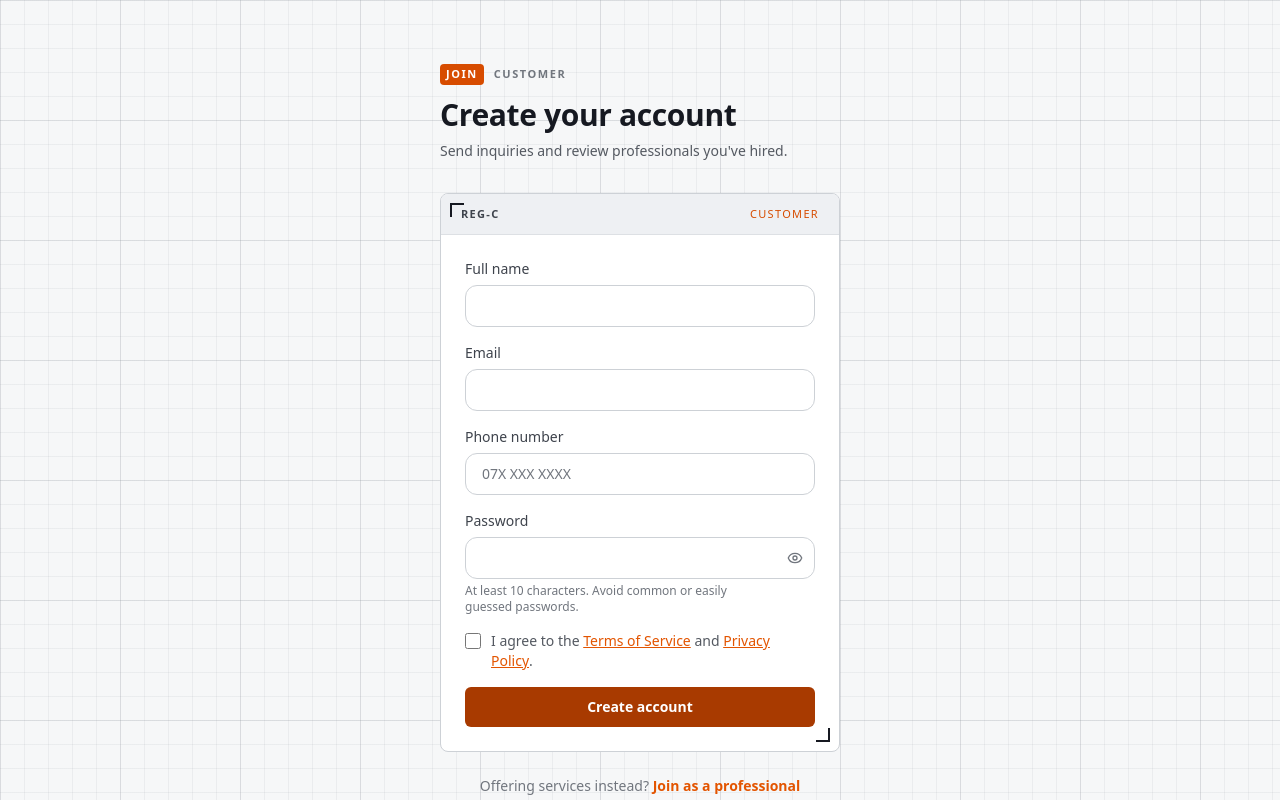
CustomerRegisterForm › recovers from a rejected fetch with an error and a re-enabled button
In the field labelled "Full name": (640, 306) [465, 285, 815, 327], type "Kasun Silva"
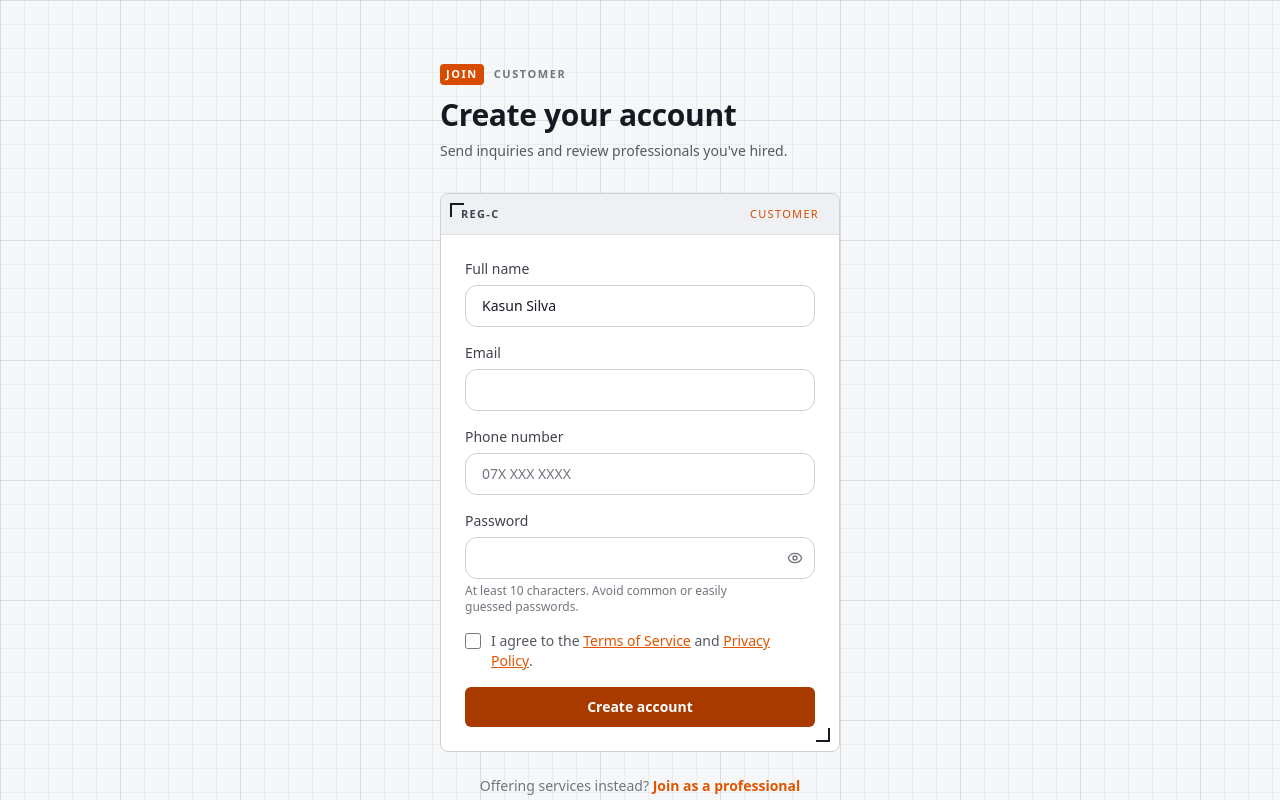
In the field labelled "Email": (640, 390) [465, 369, 815, 411], type "kasun@example.com"
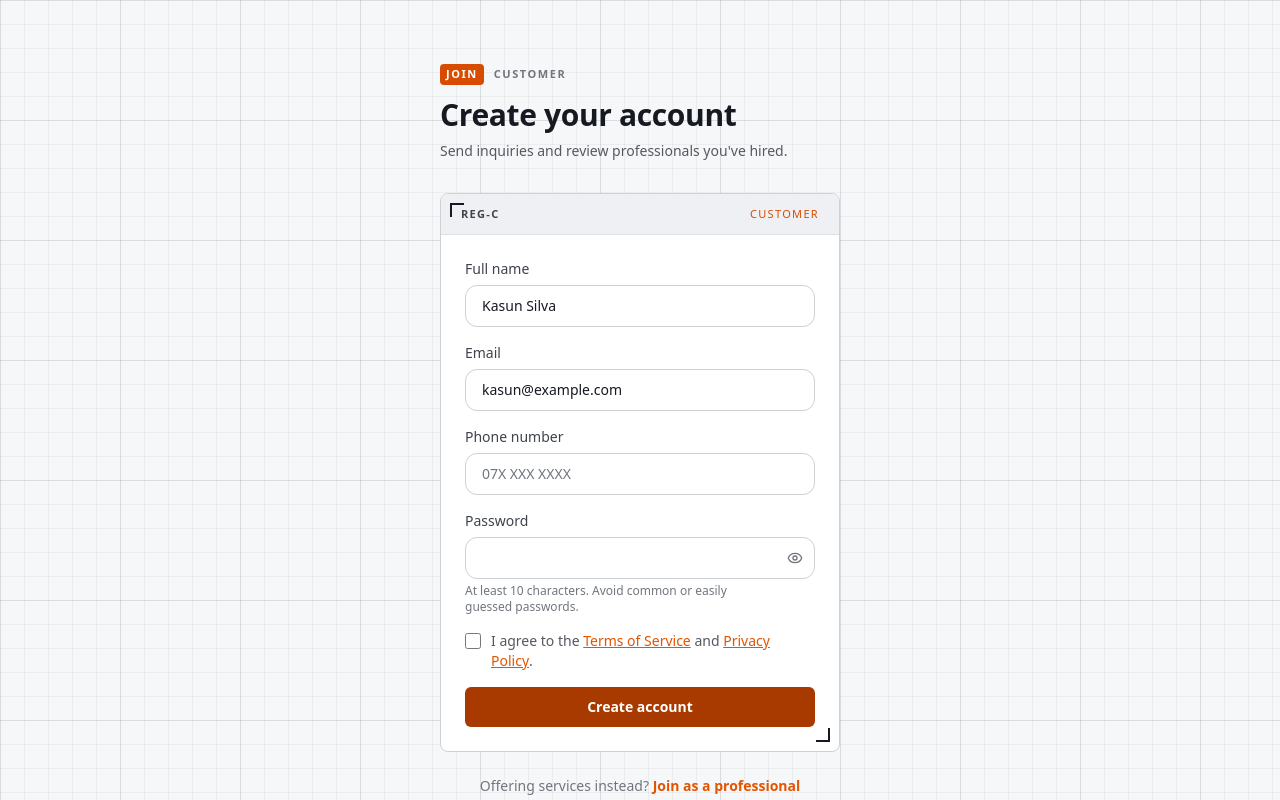
In the field labelled "Phone number": (640, 474) [465, 453, 815, 495], type "0771234567"
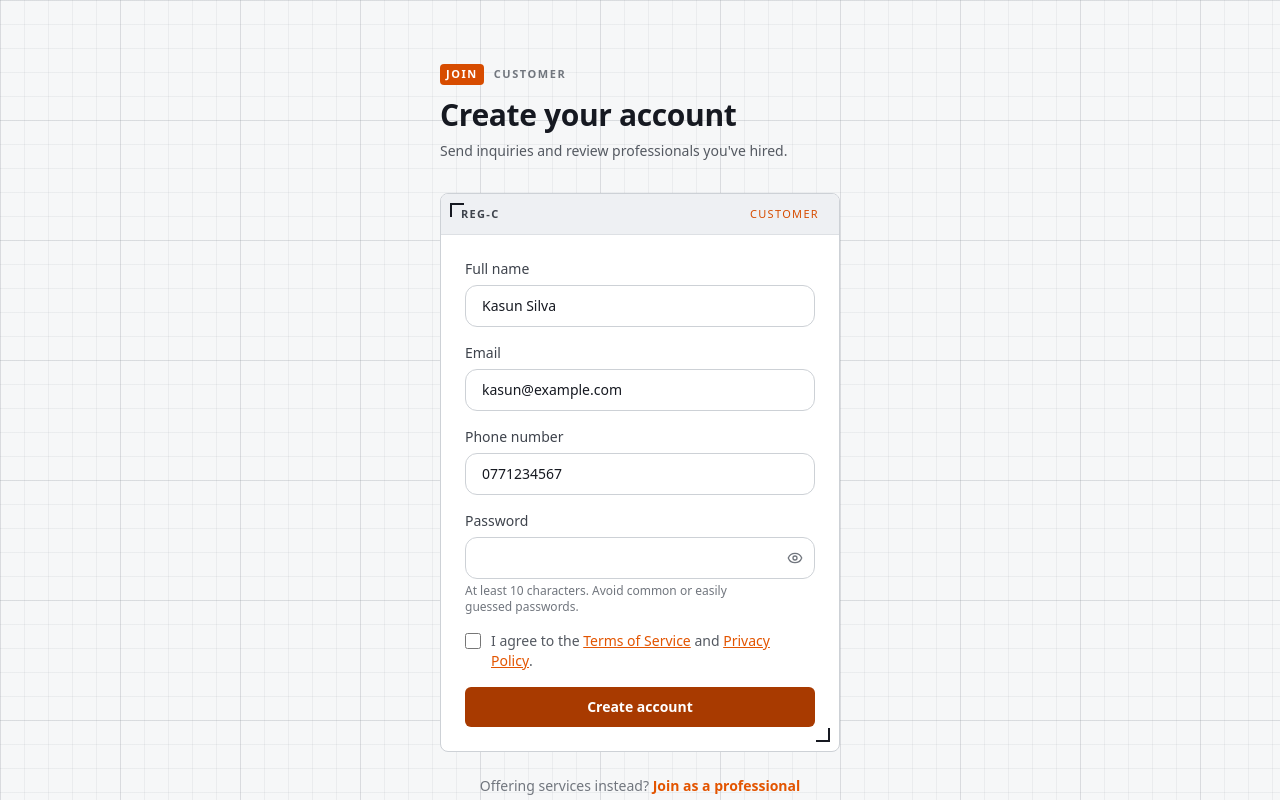
In the password field labelled "Password": (640, 558) [465, 537, 815, 579], type "password123"
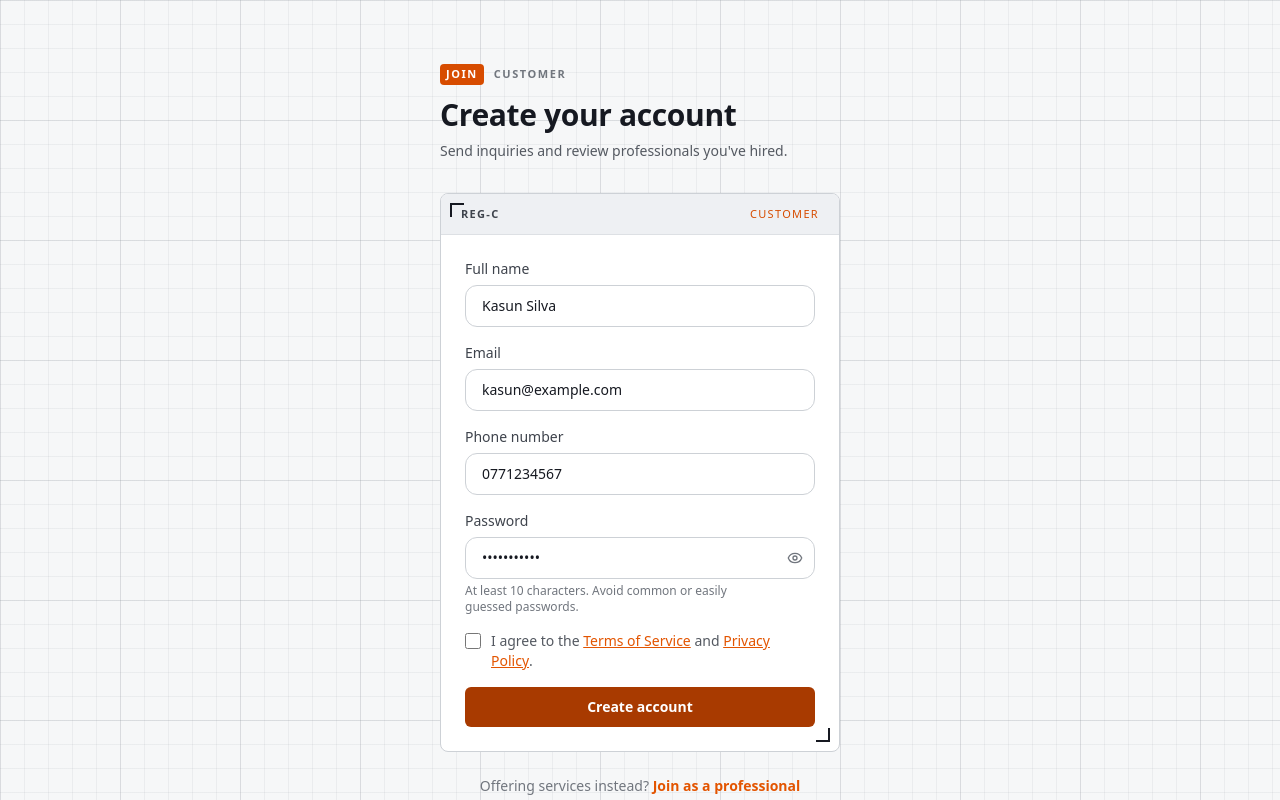
Click the checkbox: (473, 641) [465, 633, 481, 649]
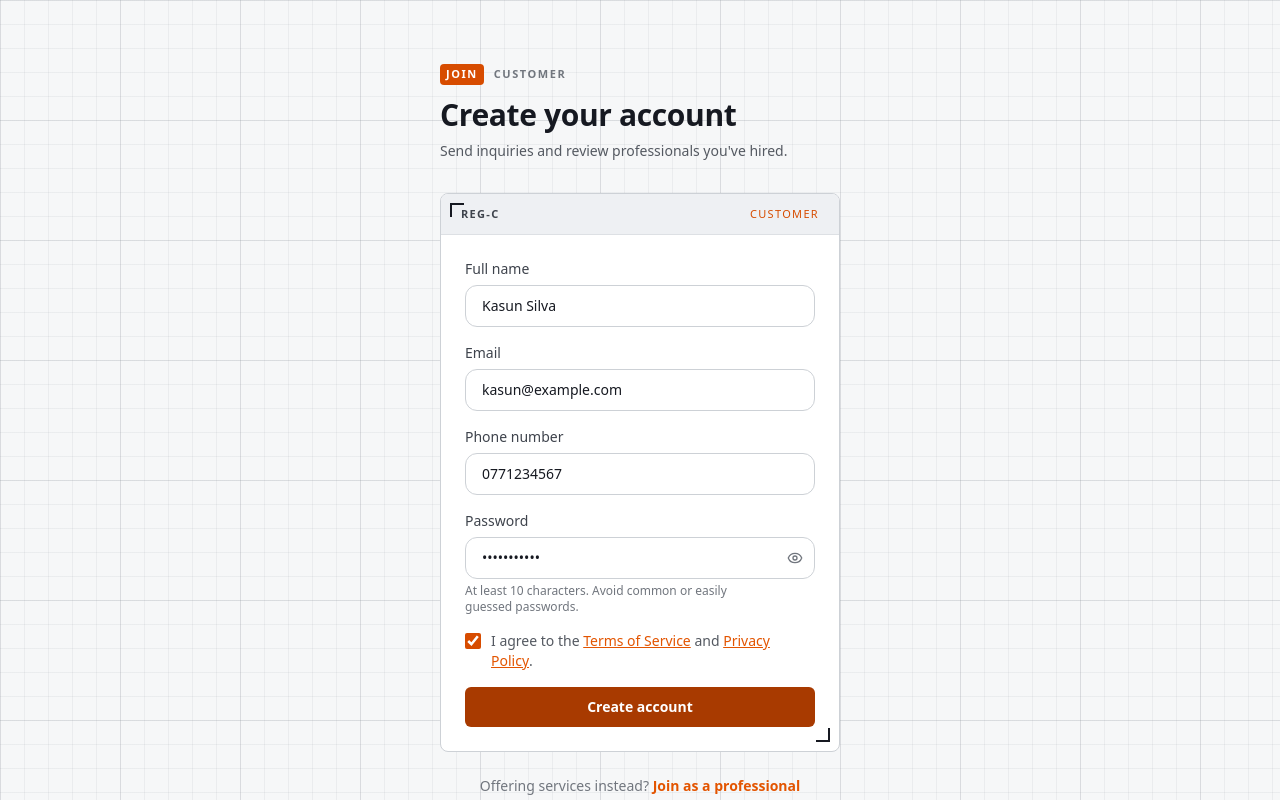
Submit the form, box [441, 235, 839, 751]
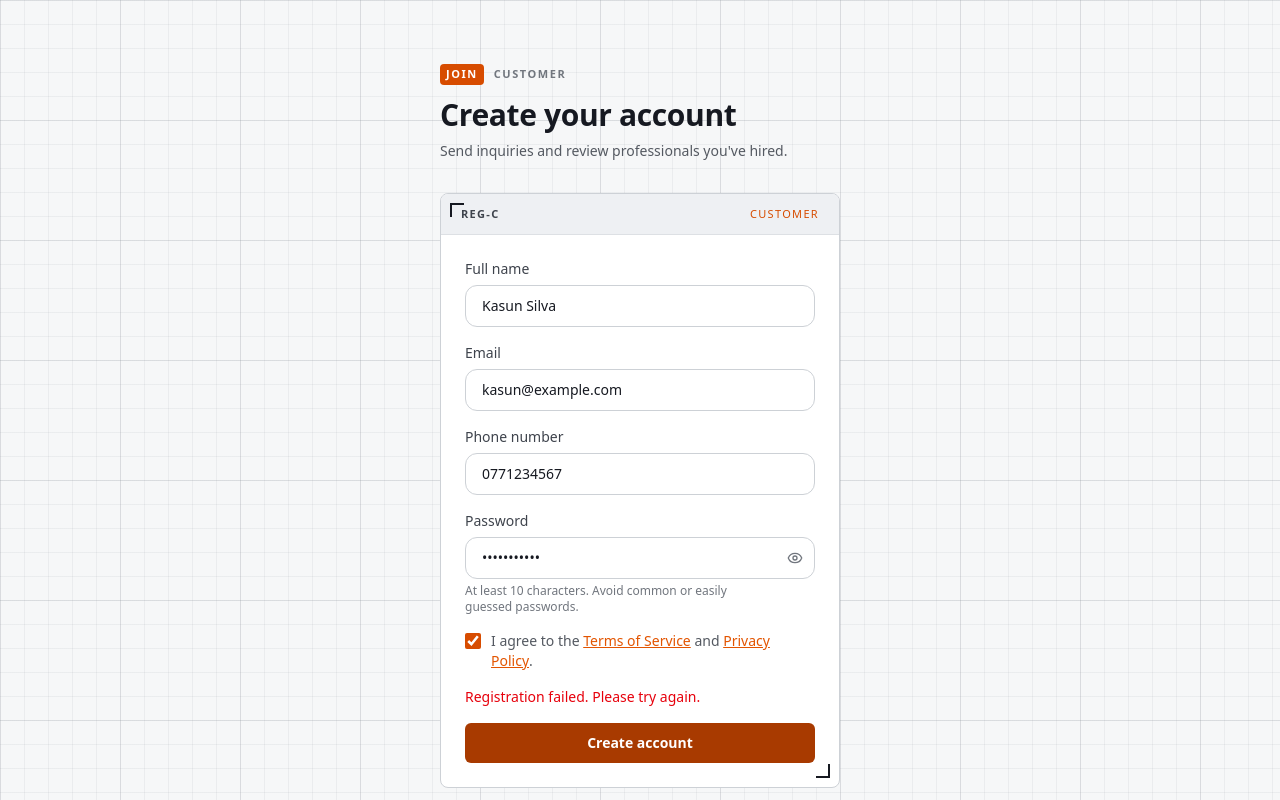
Expected: the button "Create account" is enabled, [465, 723, 815, 763]
Expected: the message reads "Registration failed. Please try again.", [465, 687, 700, 706]
